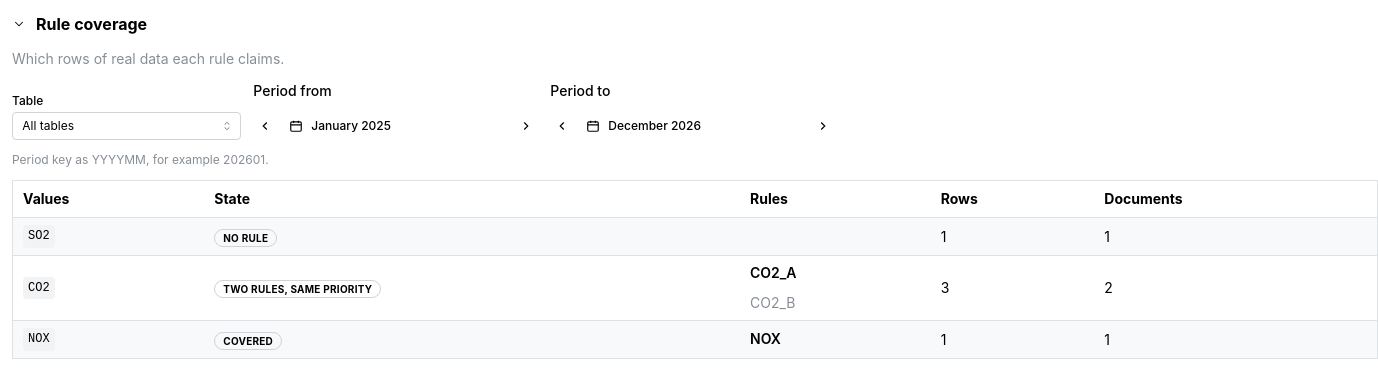
Scenario: Матриця покриття правил: вибір таблиці показує назву, а не TableDefId › прив'язка з назвою й кодом — у виборі видно назву мовою інтерфейсу, а не "Table 7"
Check: the text "CO2" is shown, box x1=23 y1=277 x2=55 y2=299
Step 1. Click the field labelled "Table" → [127, 126], box x1=12 y1=112 x2=241 y2=140
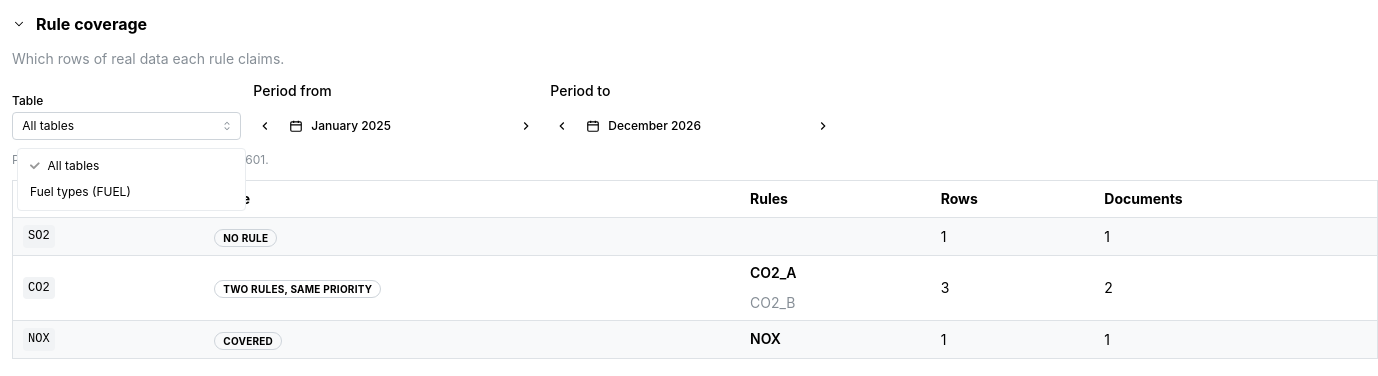
Check: the option "Fuel types (FUEL)" is shown, box x1=30 y1=184 x2=131 y2=199
